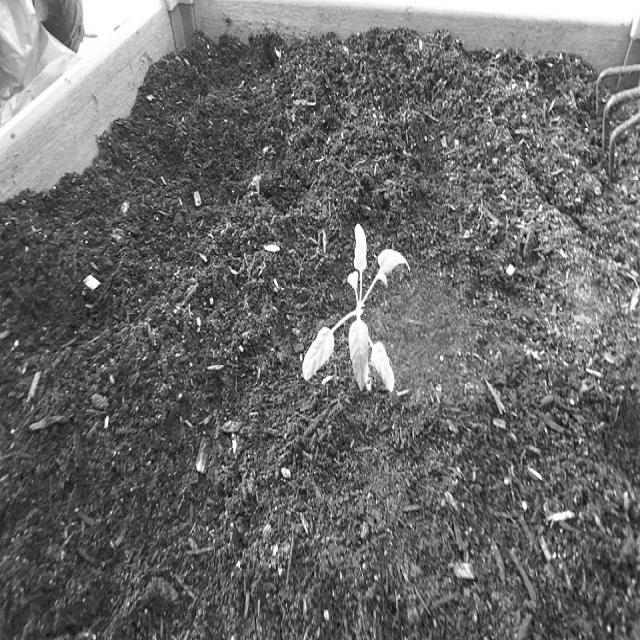Healthy: (298, 217, 415, 409)
